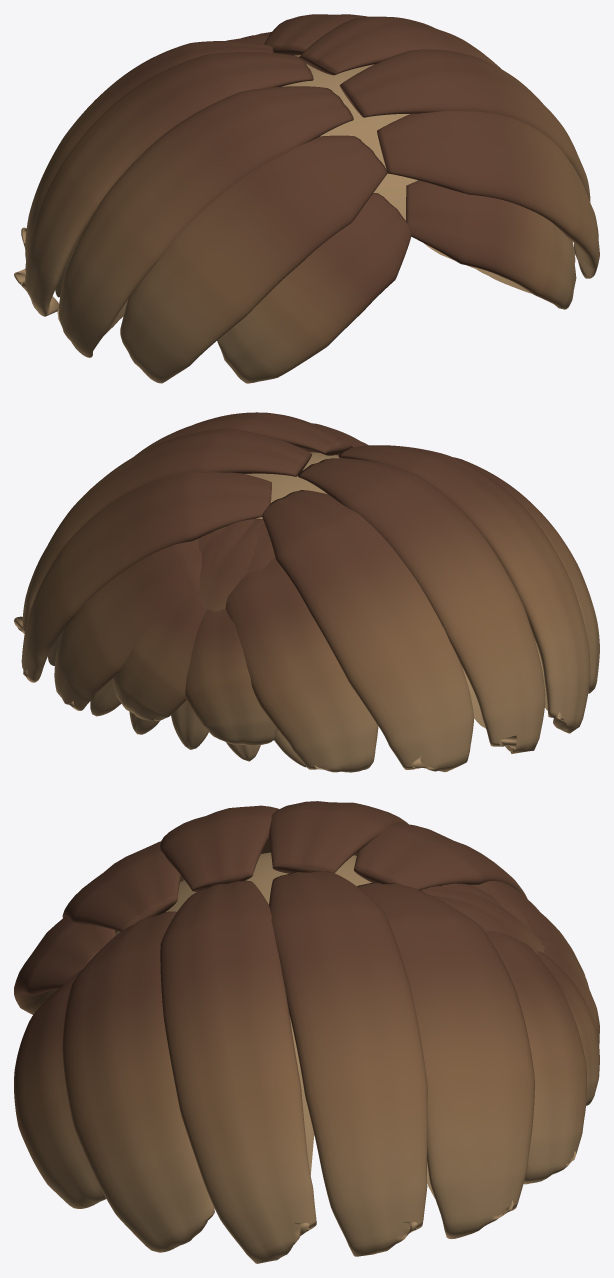
File: Masculine-middle-part-hair261-ombre.glb
3 views of the same model, one above another, from view 1: azimuth 30°, elevation 25°; view 2: azimuth 150°, elevation 25°; view 3: azimuth 270°, elevation 25° (orthographic). The views are drawn at different scales.
Visible parts, largest first — view 1: 226 hair / Hair260 / layered middle-part; view 2: 226 hair / Hair260 / layered middle-part; view 3: 226 hair / Hair260 / layered middle-part.
Boxes of the visible parts, bbox=[...] form: 226 hair / Hair260 / layered middle-part: bbox=[14, 14, 599, 383]; 226 hair / Hair260 / layered middle-part: bbox=[14, 412, 599, 772]; 226 hair / Hair260 / layered middle-part: bbox=[14, 801, 599, 1263].
Size of the model in its own units: 1.03 by 0.4519 by 0.8741.
